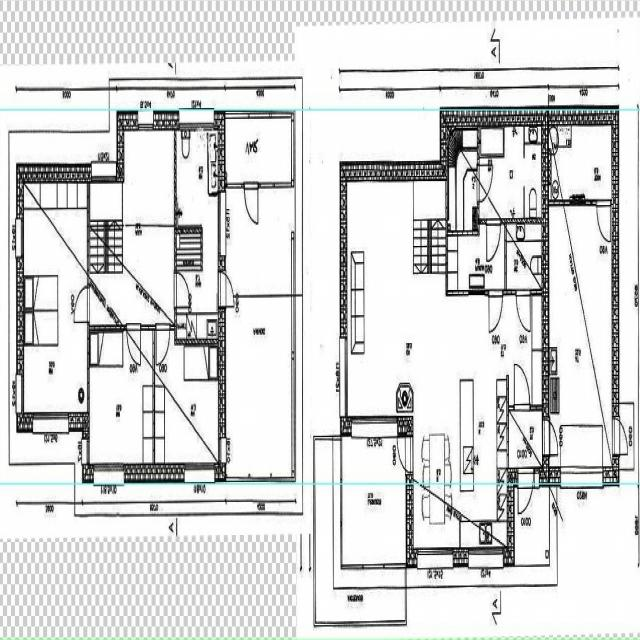door: (518, 466, 533, 526), (542, 419, 563, 455), (514, 364, 530, 411), (612, 419, 632, 454), (218, 272, 238, 306), (394, 438, 414, 471), (244, 182, 258, 226), (126, 324, 140, 367), (156, 324, 170, 366), (174, 272, 190, 308), (596, 200, 610, 241), (489, 290, 503, 330), (74, 287, 90, 322), (517, 289, 530, 331), (478, 166, 493, 202), (487, 219, 500, 260)
